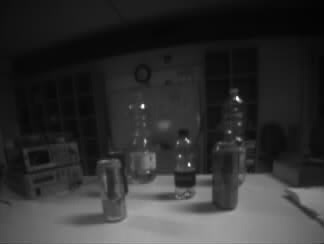Bottle: (129, 93, 155, 180), (173, 127, 195, 200), (223, 89, 244, 144)
Tin can: (98, 160, 127, 220), (212, 142, 237, 207)
